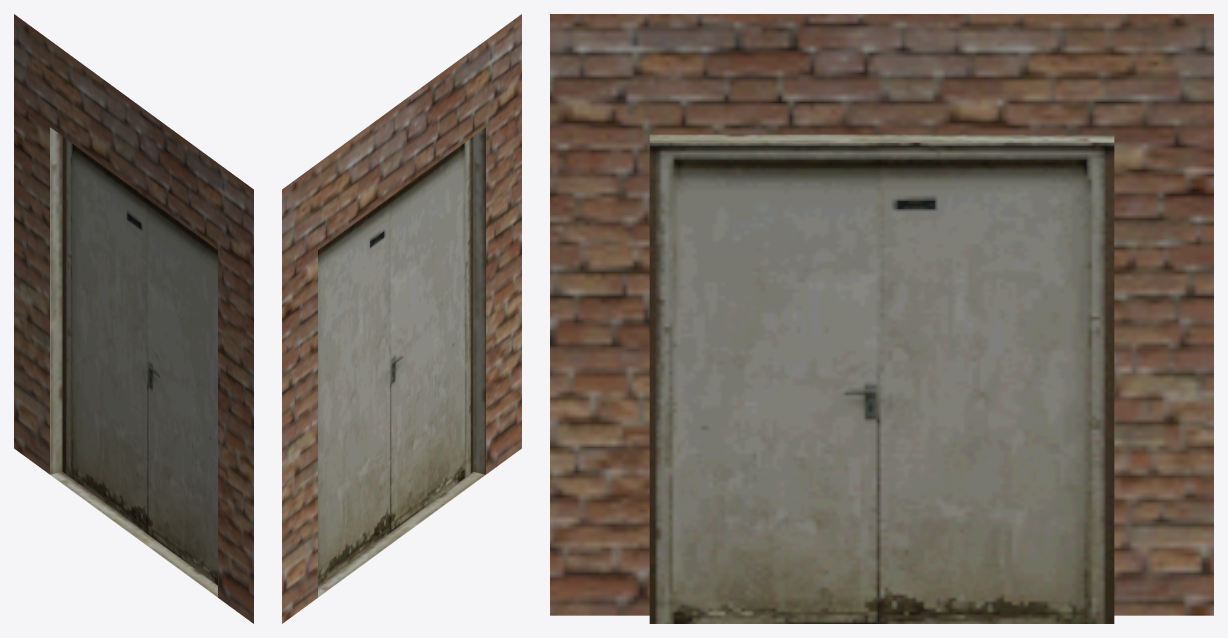
The model's file is Urban_BrickWallOldDoorIndent_Model.fbx.
3 views of the same model, side by side, from view 1: azimuth 30°, elevation 25°; view 2: azimuth 150°, elevation 25°; view 3: azimuth 270°, elevation 25° (orthographic). The views are drawn at different scales.
Parts seen in each view (by area): view 1: Urban_BrickWallOldDoorIndent_Mesh; view 2: Urban_BrickWallOldDoorIndent_Mesh; view 3: Urban_BrickWallOldDoorIndent_Mesh.
Part boxes in pixels (x1,y1,x2,y2): Urban_BrickWallOldDoorIndent_Mesh: [14, 14, 253, 623]; Urban_BrickWallOldDoorIndent_Mesh: [282, 14, 521, 623]; Urban_BrickWallOldDoorIndent_Mesh: [550, 14, 1213, 623].
Size of the model in its own units: 0.0635 by 2.1 by 2.1.
